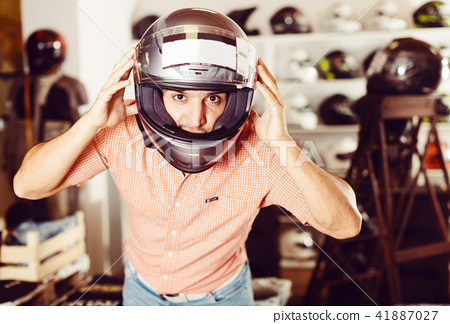helmet: (138, 17, 248, 158)
